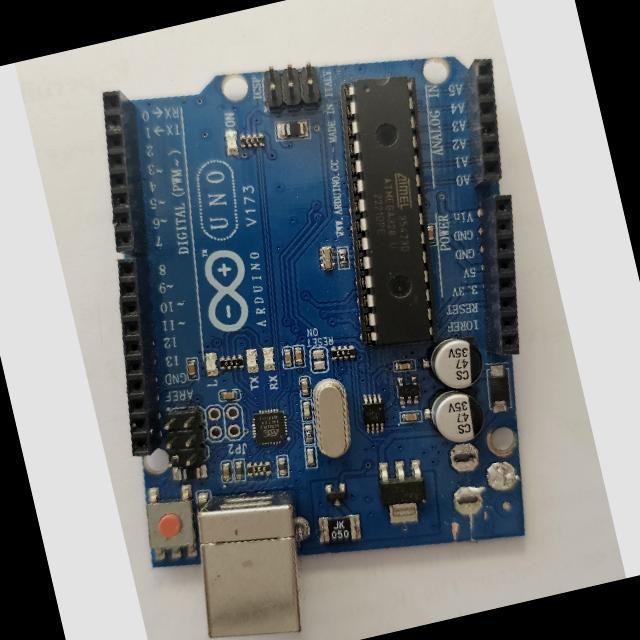missing_eps: (433, 439, 512, 571)
